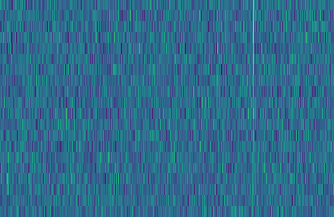signal: (249, 0, 259, 217)
